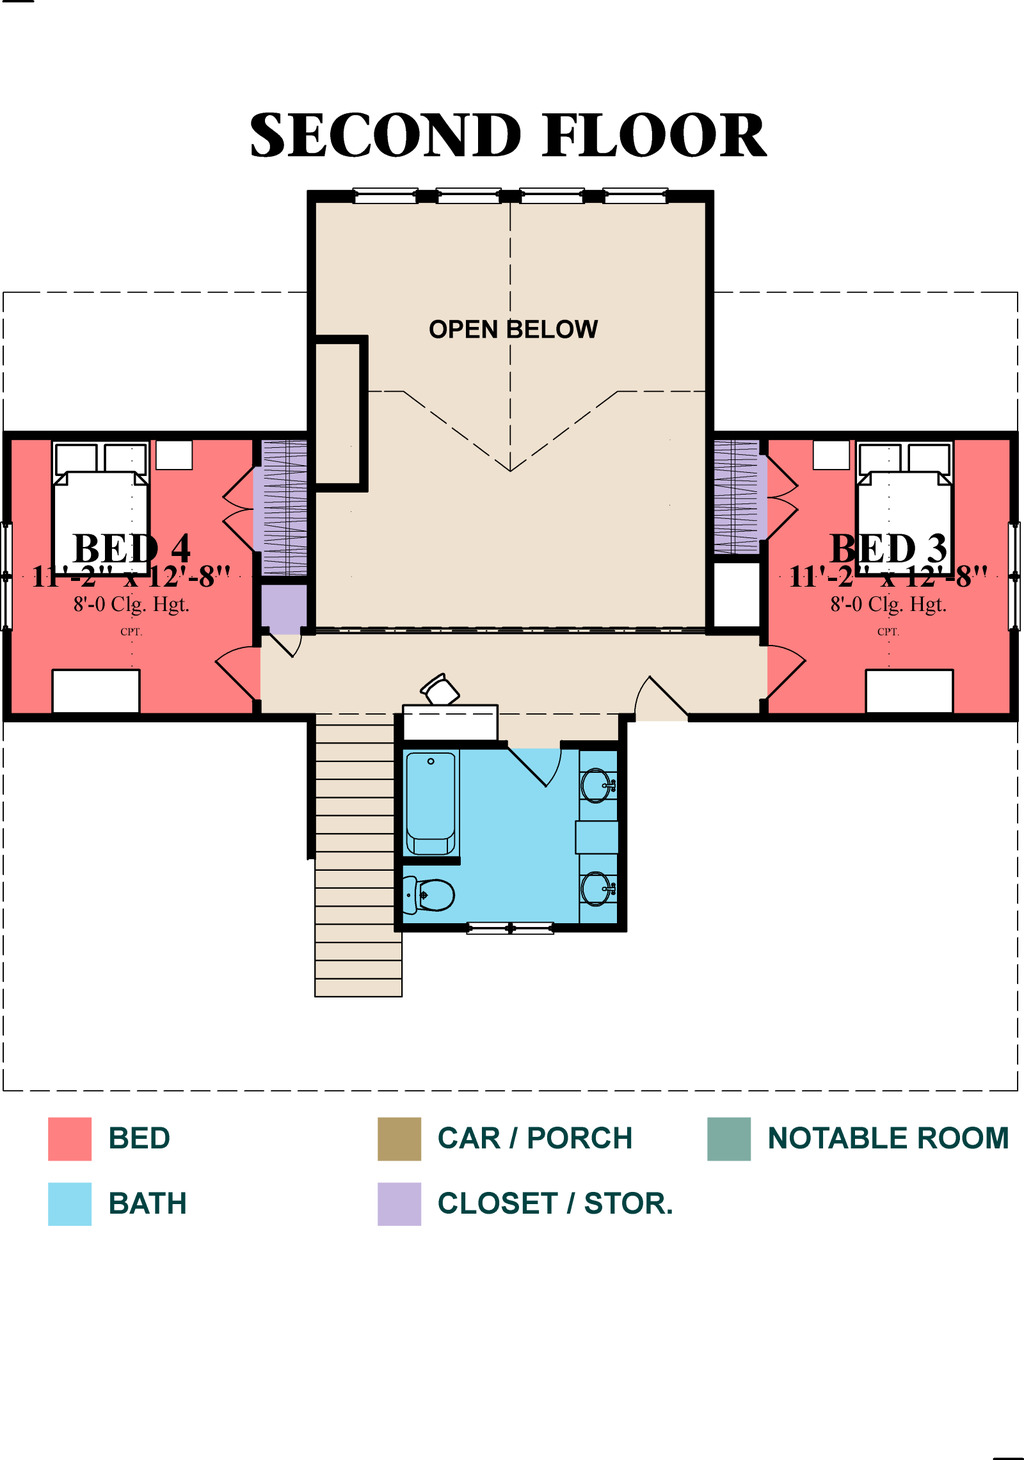bed: (48, 436, 158, 581), (848, 442, 953, 580)
door: (758, 456, 800, 547), (217, 464, 261, 550), (756, 645, 812, 708), (622, 675, 686, 730), (506, 739, 570, 783), (216, 641, 261, 703)
large_sink: (401, 878, 459, 927)
small_sink: (572, 853, 628, 925), (570, 752, 619, 822)
stairs: (303, 708, 412, 1002)
tub: (401, 752, 464, 866)
windows: (336, 181, 685, 214), (994, 516, 1020, 625)
